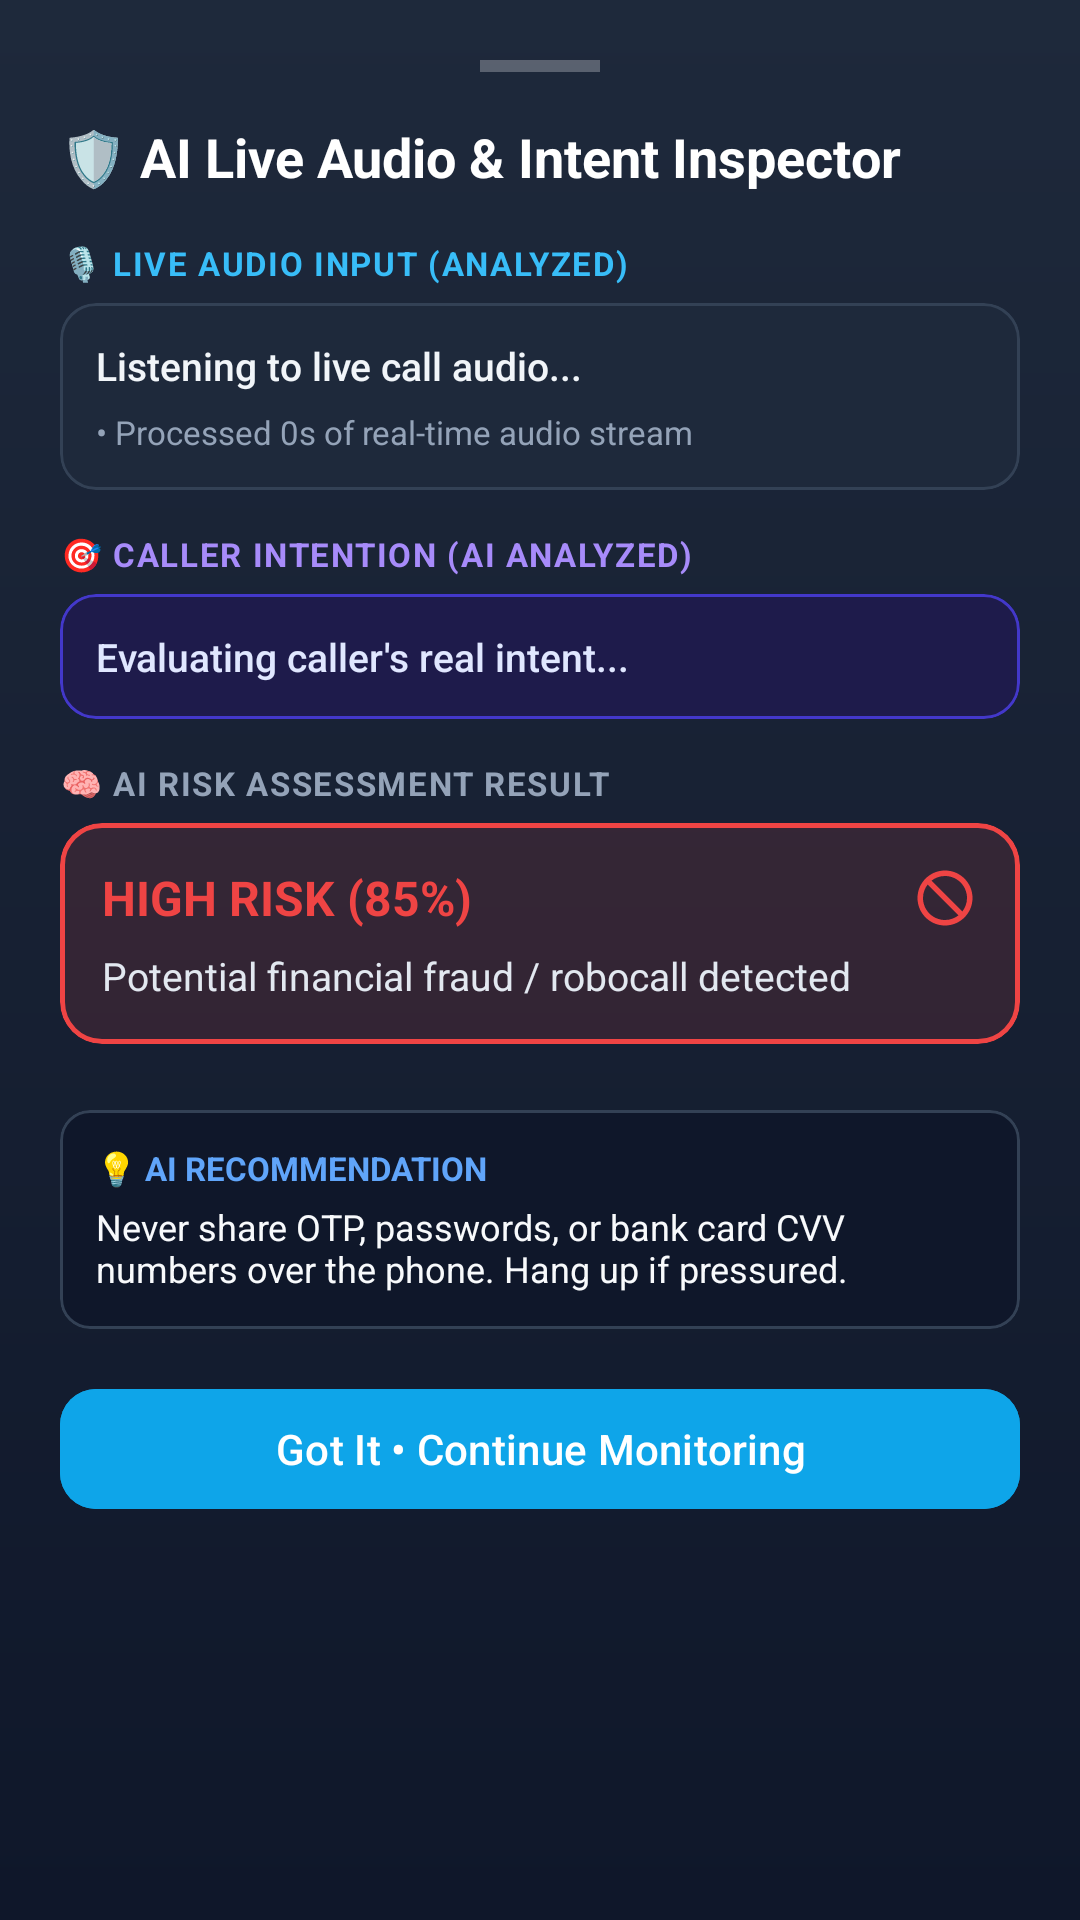

Where icons sit on this 1080 × 1920 app screen, as rect(x1, y1, x2, y2):
block: rect(917, 870, 973, 926)
